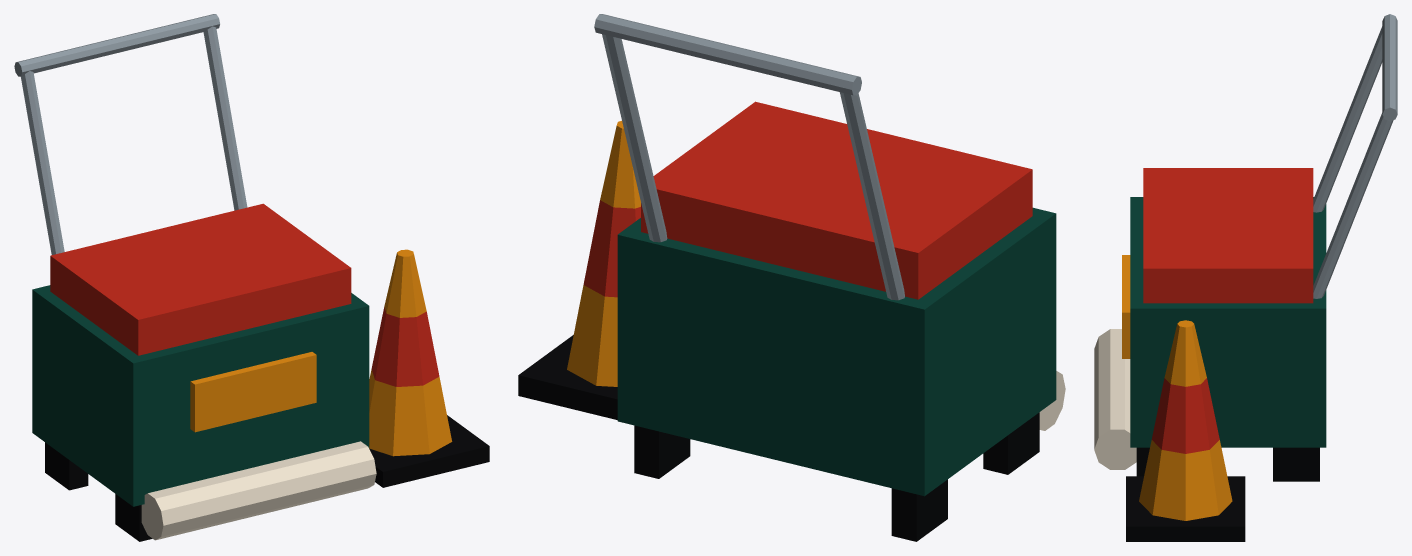
The model's file is cozy_bowling_lane_oiler_cart.obj.
The picture shows the model from 3 angles, left to right: view 1: azimuth 30°, elevation 25°; view 2: azimuth 150°, elevation 25°; view 3: azimuth 270°, elevation 25°; orthographic projection. The views are drawn at different scales.
Visible parts, largest first — view 1: OilerCart_Mesh; view 2: OilerCart_Mesh; view 3: OilerCart_Mesh.
Part boxes in pixels (x1,y1,x2,y2): OilerCart_Mesh: (14, 14, 489, 541); OilerCart_Mesh: (518, 14, 1065, 541); OilerCart_Mesh: (1094, 14, 1397, 541).
Bounding box in the file's own units: 0.93 × 0.958 × 0.713.
